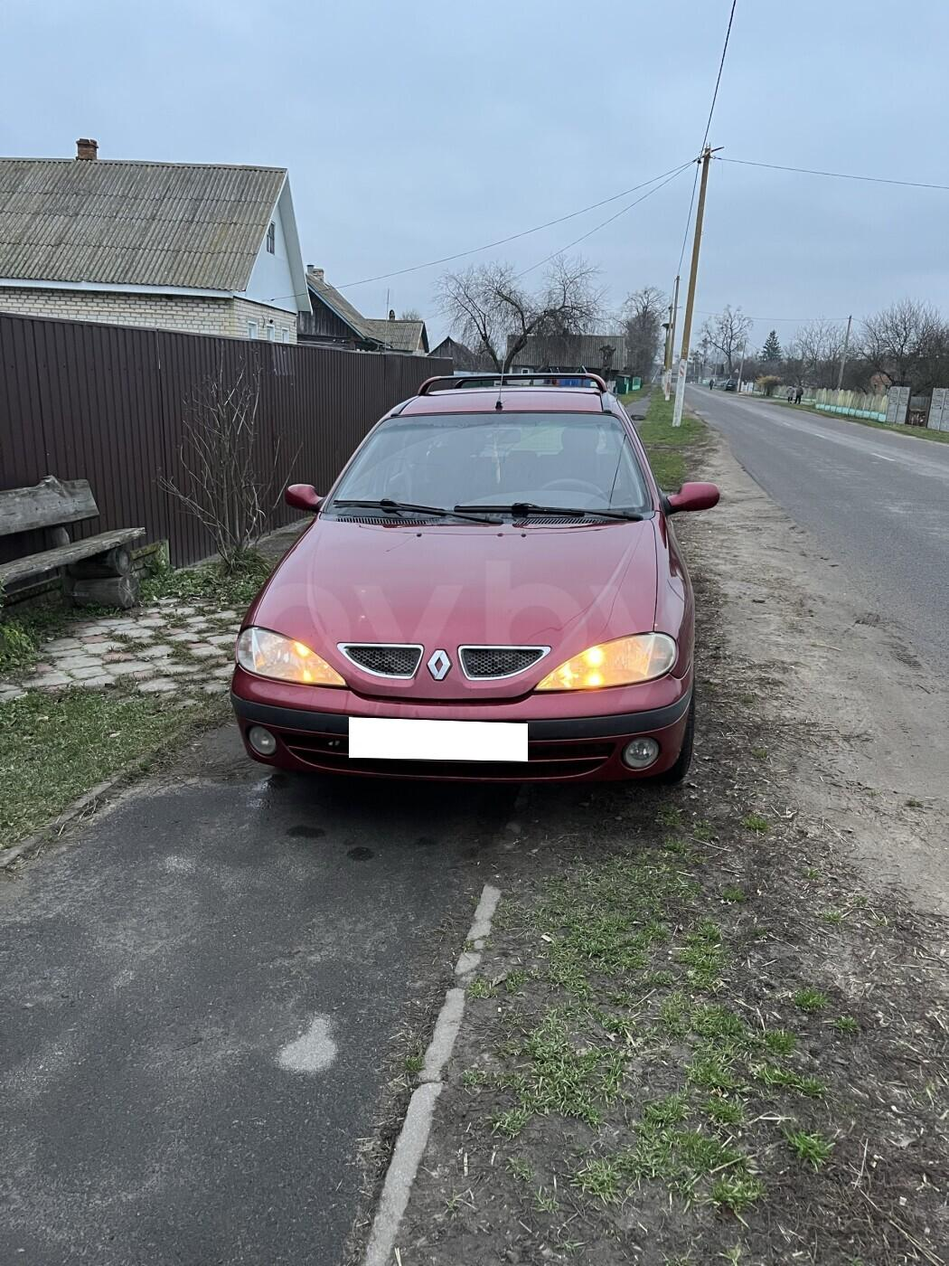Megane_1999-2003: (219, 380, 712, 816)
